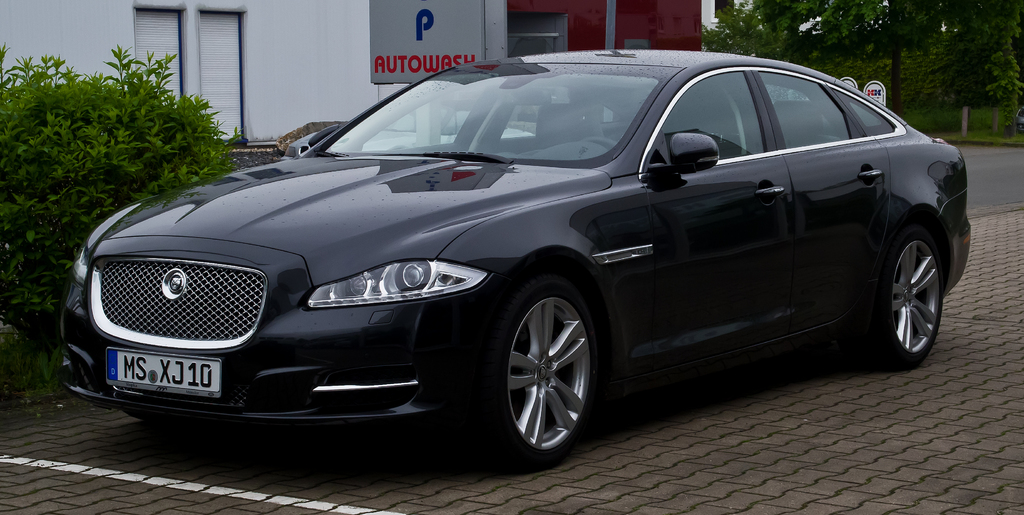Car: (55, 40, 974, 465)
